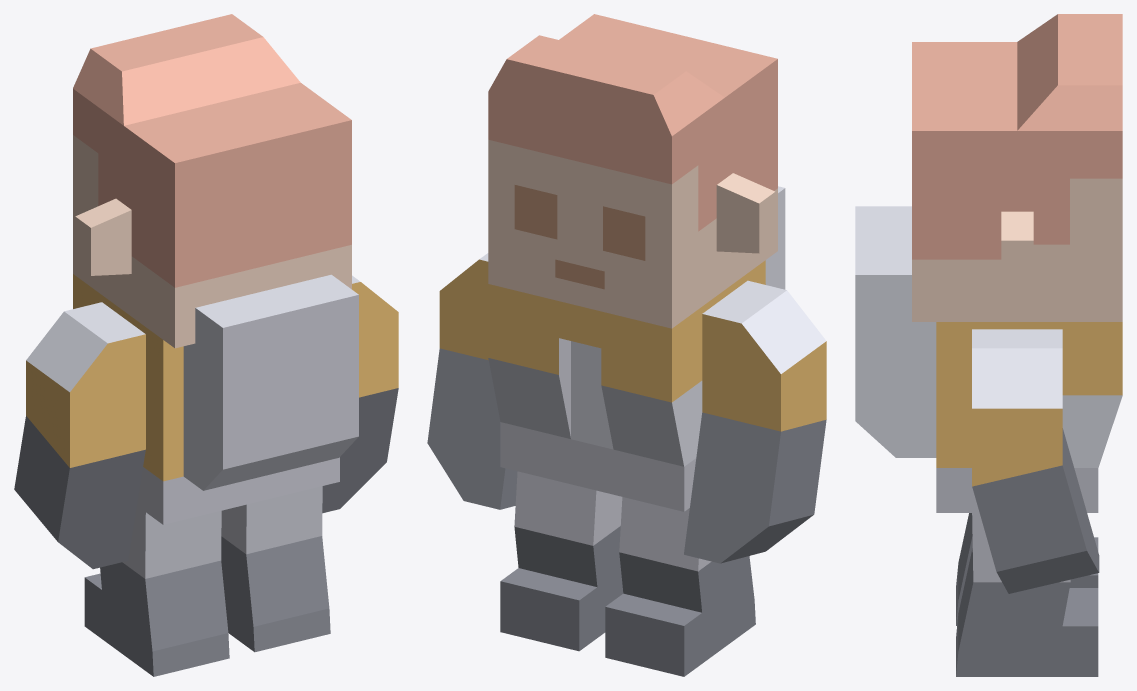
The model's file is astronautA.glb.
3 renders of one model, left to right at view 1: azimuth 30°, elevation 25°; view 2: azimuth 150°, elevation 25°; view 3: azimuth 270°, elevation 25°, orthographic. The views are drawn at different scales.
Parts seen in each view (by area): view 1: armLeft; view 2: armLeft; view 3: armLeft.
Part boxes in pixels (left/top/right/bottom): armLeft: left=14, top=14, right=398, bottom=676; armLeft: left=427, top=14, right=826, bottom=676; armLeft: left=855, top=14, right=1122, bottom=676.
Size of the model in its own units: 0.4832 by 0.7932 by 0.33.
Materials: 1 (1 with a texture image).
